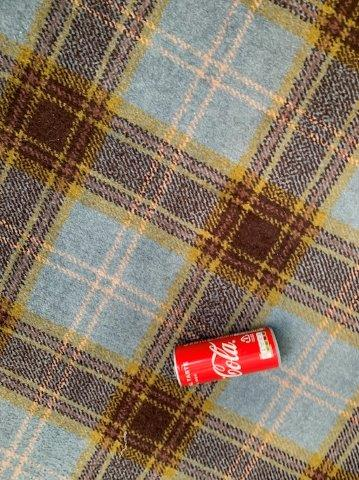kaleng: (175, 329, 280, 386)
